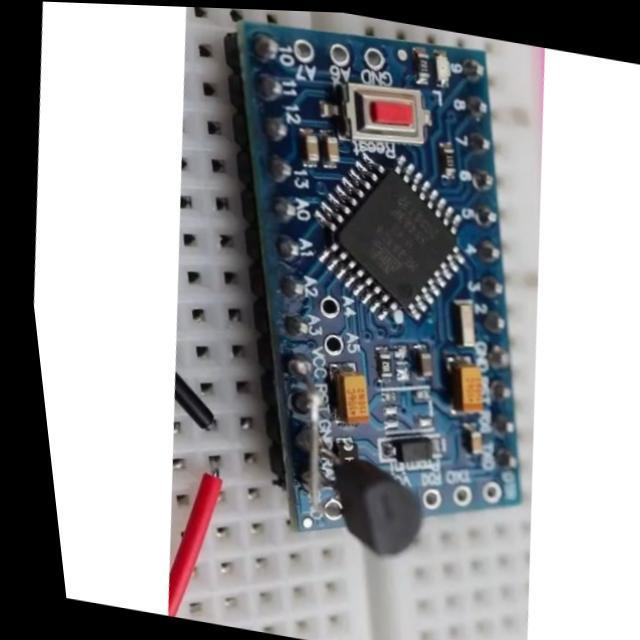Arduino-ProMini: (240, 22, 521, 531)
